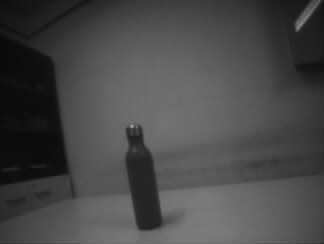Bottle: (126, 124, 164, 230)
